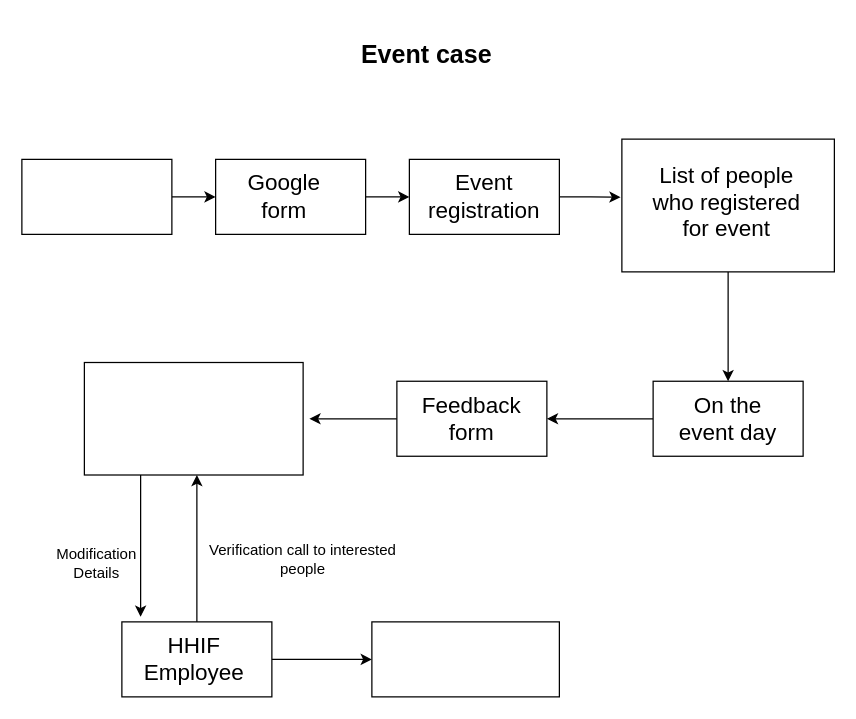
This 856x719 diagram has some shape labels left out. Each missing label, with the centre of its shape:
"Enroll in whatsapp group" belongs at (x=465, y=659).
"Event pamphlet" belongs at (x=96, y=196).
"List of people who have attended the conference" belongs at (x=193, y=418).
